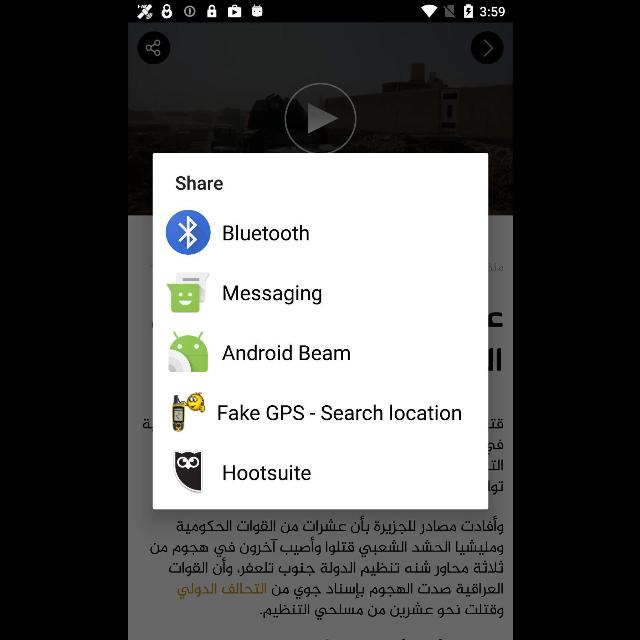icon: (285, 83, 355, 153), (166, 210, 210, 256), (136, 31, 170, 65), (470, 32, 502, 64)
image: (165, 272, 209, 314), (167, 328, 207, 372), (171, 392, 205, 432), (172, 450, 202, 492)
panel: (152, 153, 488, 509)
text: (217, 404, 461, 422), (221, 344, 349, 362), (222, 284, 322, 306), (222, 224, 308, 242), (222, 465, 310, 481), (175, 176, 223, 190)
uppertaskbar: (128, 1, 512, 23)
